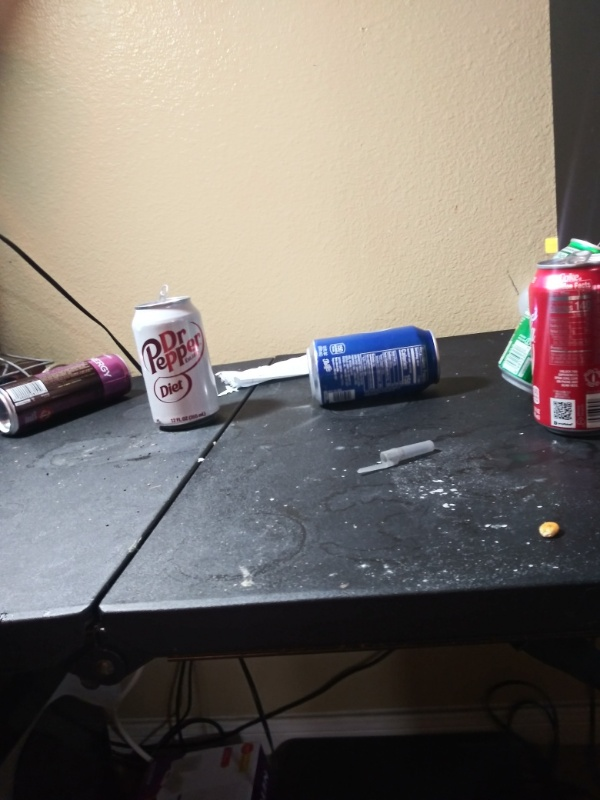can: (496, 235, 600, 399), (523, 245, 600, 436), (129, 283, 227, 432), (303, 322, 445, 410), (1, 349, 130, 437)
